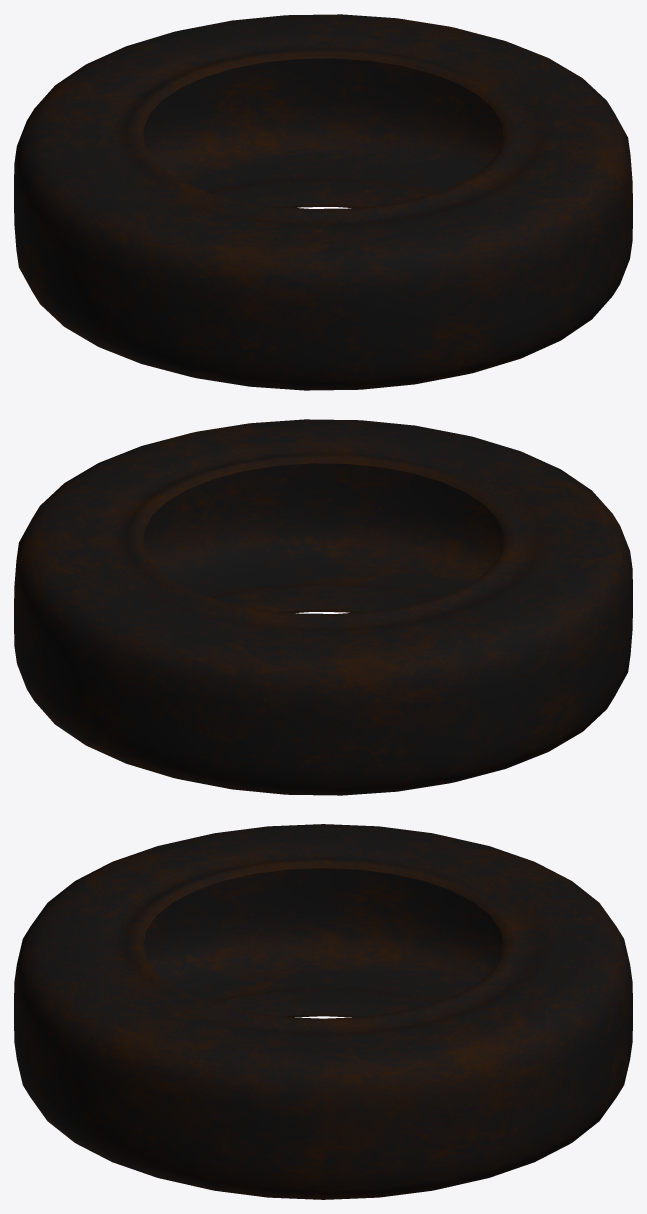
File: TireBarrier_1.fbx
3 views of the same model, one above another, from view 1: azimuth 30°, elevation 25°; view 2: azimuth 150°, elevation 25°; view 3: azimuth 270°, elevation 25° (orthographic).
Visible parts, largest first — view 1: TireBarrier_1; view 2: TireBarrier_1; view 3: TireBarrier_1.
Part boxes in pixels (x1,y1,x2,y2): TireBarrier_1: (14,14,632,390); TireBarrier_1: (14,419,632,795); TireBarrier_1: (14,824,632,1199).
Size of the model in its own units: 0.576 by 0.1474 by 0.576.
